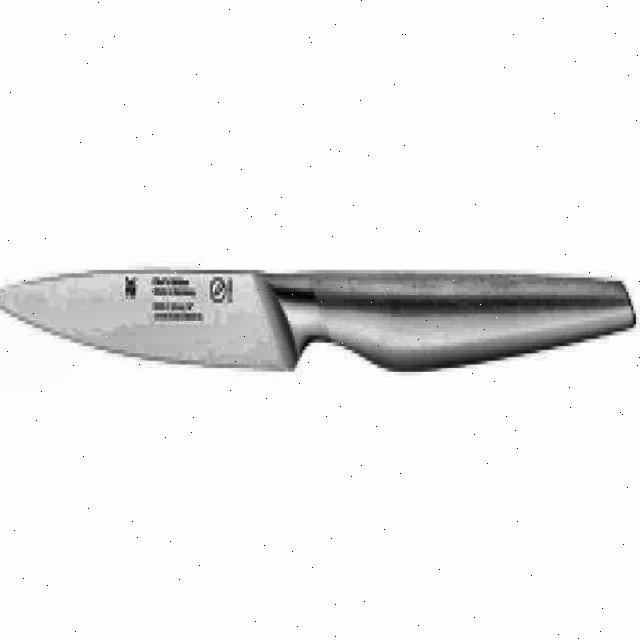knife: (0, 259, 638, 381)
